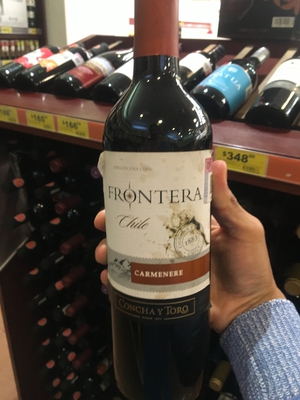frontera carmenere: (102, 2, 238, 400)
